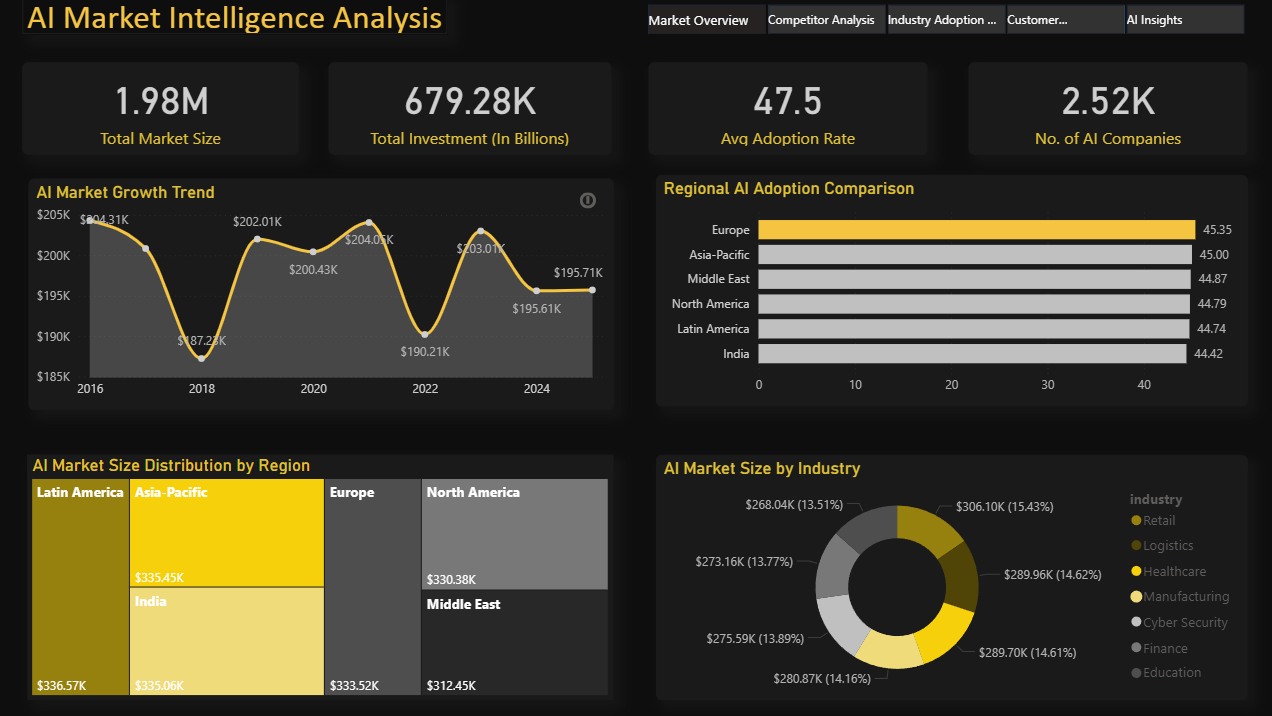

What the dashboard file says about the page in this screenshot:
{"tool":"powerbi","page":{"name":"Market Overview","canvas":[1280,720],"ordinal":0},"visuals":[{"type":"textbox","title":"AI Market Intelligence Analysis","box":[31,0,423.2,38.1],"z":0},{"type":"card","fields":{"Values":["ai_market_intelligence_dataset_2_market_growth_11247.Total Market Size"]},"box":[31,65.6,275.4,91.8],"z":1000},{"type":"card","fields":{"Values":["ai_market_intelligence_dataset_2_market_growth_11247.Total Investment"]},"box":[336.2,65.6,281.3,91.8],"z":2000},{"type":"card","fields":{"Values":["Adoption.Avg Adoption Rate"]},"box":[654.4,65.6,277.7,91.8],"z":3000},{"type":"card","fields":{"Values":["Avg(ai_market_intelligence_dataset_2_market_growth_11247.number_of_ai_companies)"]},"box":[972.7,65.6,277.7,91.8],"z":4000},{"type":"lineChart","title":"AI Market Growth Trend","fields":{"Category":["ai_market_intelligence_dataset_2_market_growth_11247.year"],"Y":["Sum(ai_market_intelligence_dataset_2_market_growth_11247.market_size_billion_usd)"]},"box":[37.3,181.6,582.2,230.1],"z":5000},{"type":"treemap","title":"AI Market Size Distribution by Region","fields":{"Values":["Sum(ai_market_intelligence_dataset_2_market_growth_11247.market_size_billion_usd)"],"Group":["ai_market_intelligence_dataset_2_market_growth_11247.region"]},"box":[35.8,456.5,582.9,244.4],"z":6000},{"type":"pageNavigator","box":[654.3,8.7,595.9,29.9],"z":7000},{"type":"barChart","title":"Regional AI Adoption Comparison","fields":{"Category":["ai_market_intelligence_dataset_2_market_growth_11247.region"],"Y":["Avg(ai_market_intelligence_dataset_2_market_growth_11247.ai_adoption_rate_percent)"]},"box":[661.6,177.6,588.9,230.1],"z":8000},{"type":"donutChart","title":"AI Market Size by Industry","fields":{"Category":["ai_market_intelligence_dataset_2_market_growth_11247.industry"],"Y":["Sum(ai_market_intelligence_dataset_2_market_growth_11247.market_size_billion_usd)"]},"box":[661.6,456.5,588.9,244.4],"z":9000},{"type":"actionButton","box":[582.2,191.6,23.6,23.6],"z":10000}]}

Visuals, with their boxes in screenshot pixels (x1, y1, x2, y2), scaled from the page's 1280x720 canvas onto the 1272x716 screenshot:
"AI Market Intelligence Analysis" textbox: (31, 0, 451, 38)
card - ai_market_intelligence_dataset_2_market_growth_11247.Total Market Size: (31, 65, 304, 157)
card - ai_market_intelligence_dataset_2_market_growth_11247.Total Investment: (334, 65, 614, 157)
card - Adoption.Avg Adoption Rate: (650, 65, 926, 157)
card - Avg(ai_market_intelligence_dataset_2_market_growth_11247.number_of_ai_companies): (967, 65, 1243, 157)
"AI Market Growth Trend" lineChart: (37, 181, 616, 409)
"AI Market Size Distribution by Region" treemap: (36, 454, 615, 697)
pageNavigator: (650, 9, 1242, 38)
"Regional AI Adoption Comparison" barChart: (657, 177, 1243, 405)
"AI Market Size by Industry" donutChart: (657, 454, 1243, 697)
actionButton: (579, 191, 602, 214)
